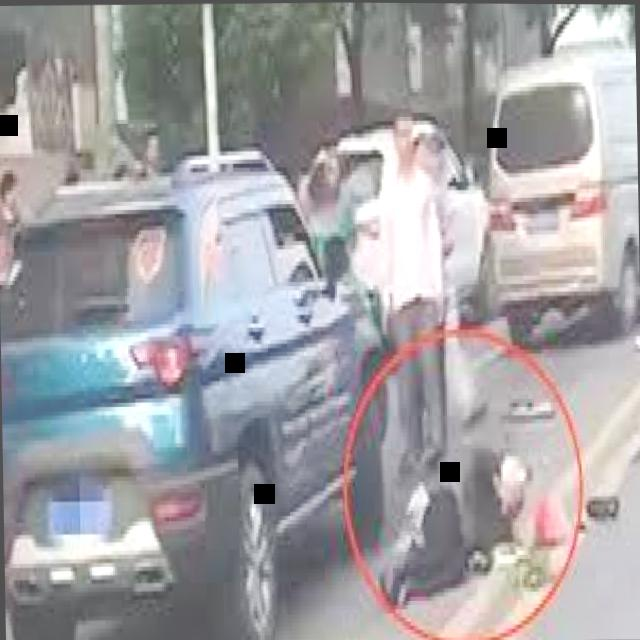Fall-Detected: (368, 409, 556, 614)
